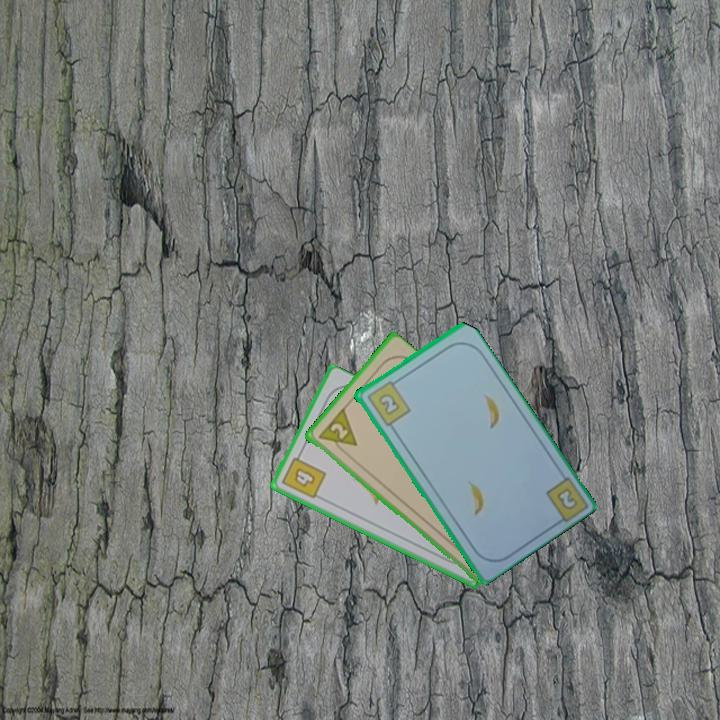2b: (363, 376, 413, 429), (553, 484, 580, 513)
2p: (314, 406, 360, 459)
4b: (278, 448, 329, 502)
